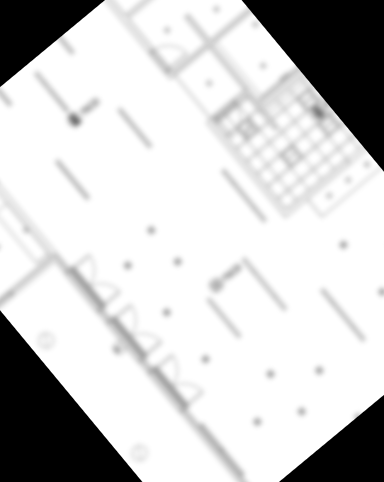door: (211, 98, 256, 142)
double door: (65, 249, 127, 314), (106, 301, 166, 363), (149, 351, 207, 413), (148, 30, 192, 74)
window: (193, 417, 253, 482)
